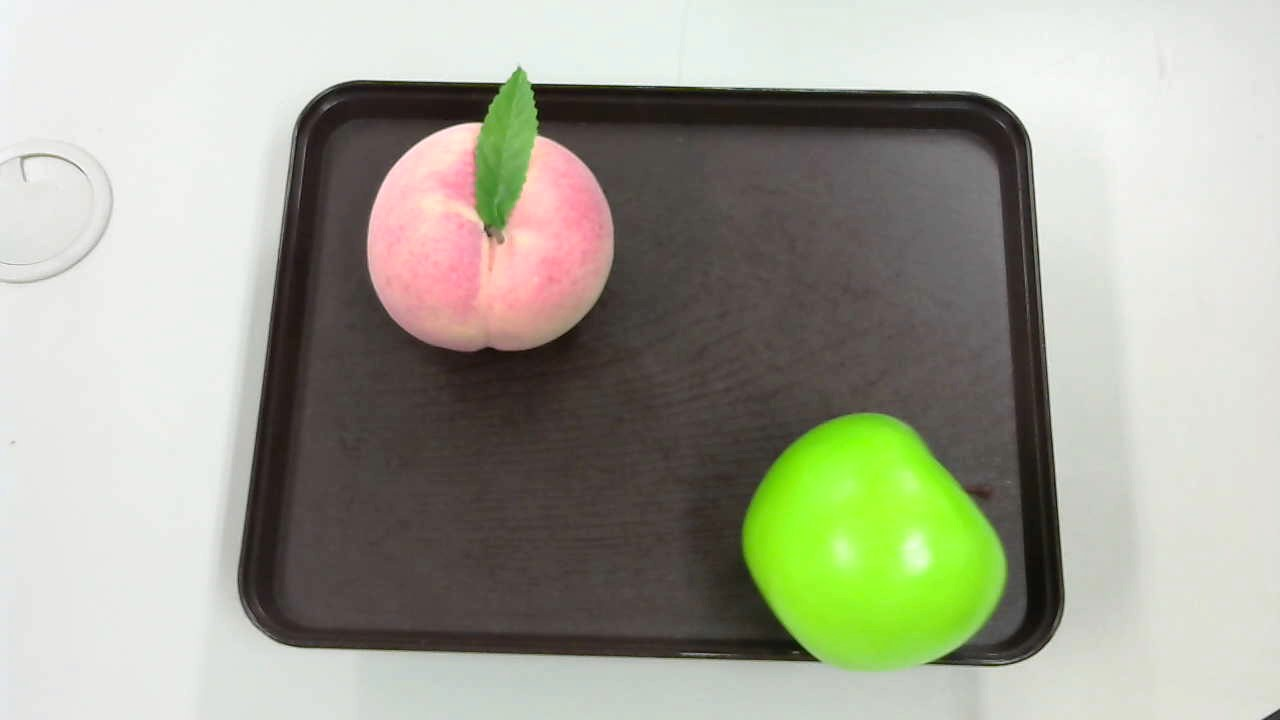green apple: (740, 405, 1010, 676)
peach: (363, 62, 614, 356)
